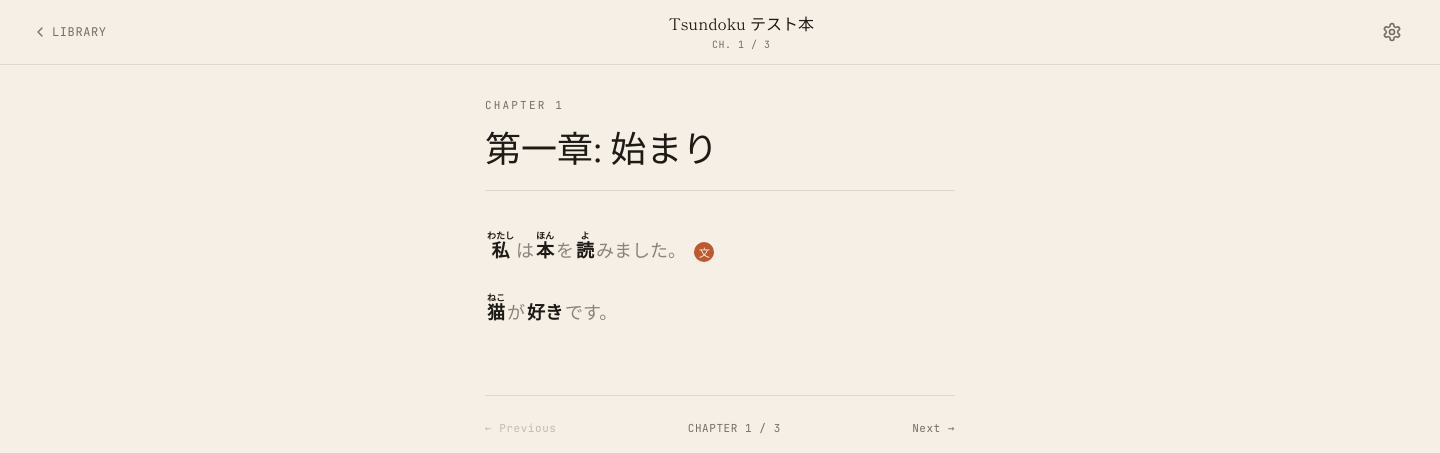
Test: Reader › navigates to next chapter and fetches it on demand
The image size is (1440, 453).
Click the button "Next →". click: [934, 428]
box: left=912, top=420, right=955, bottom=436
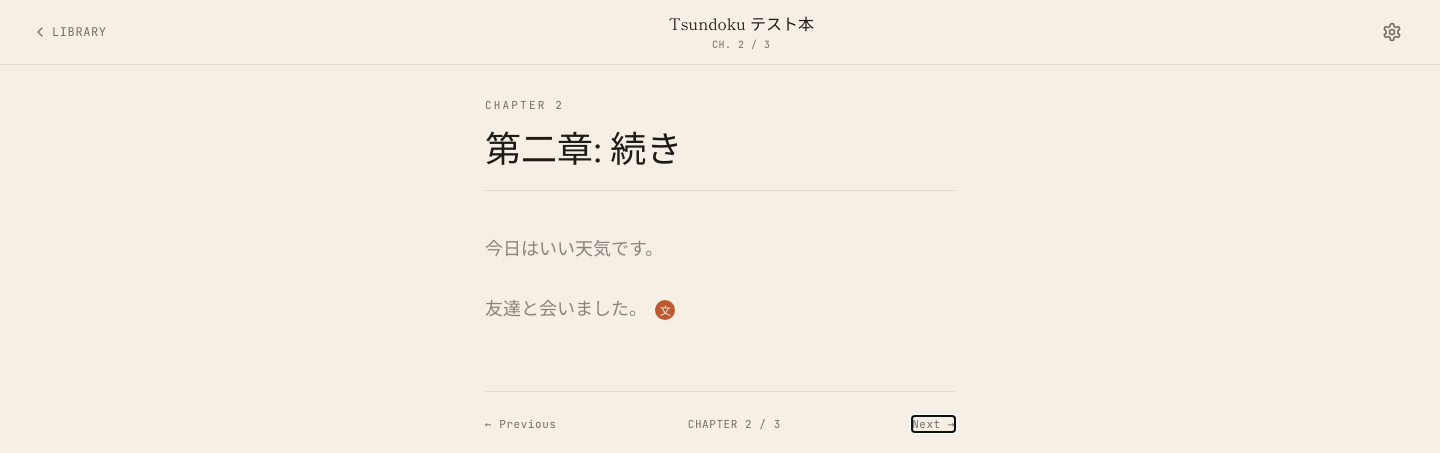
Check: the element showing "今日はいい天気です。" is shown, box left=485, top=238, right=663, bottom=258
Check: the heading "第二章: 続き" is shown, box left=485, top=120, right=682, bottom=172
